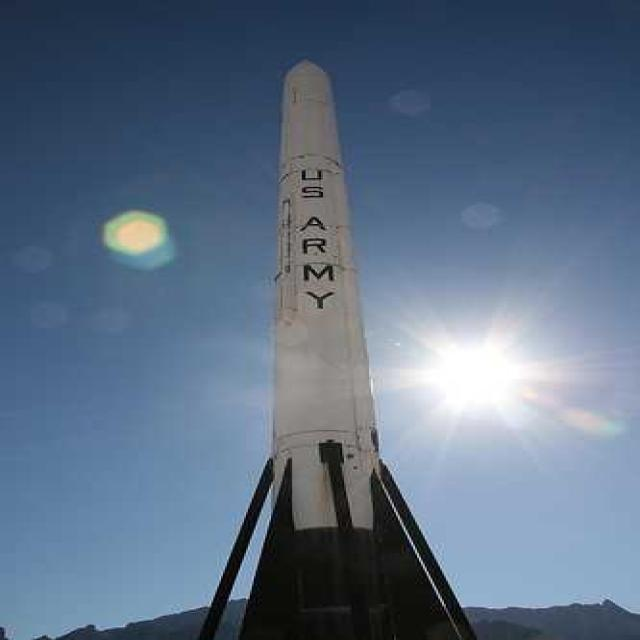missile: (234, 58, 439, 636)
